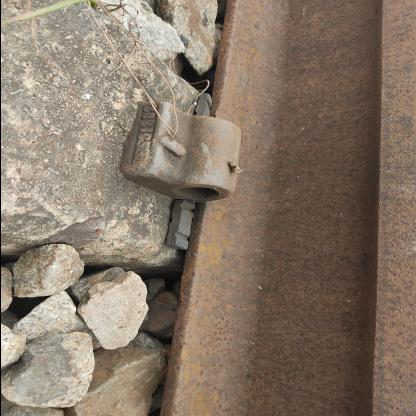Defective 1: (68, 63, 290, 241)
